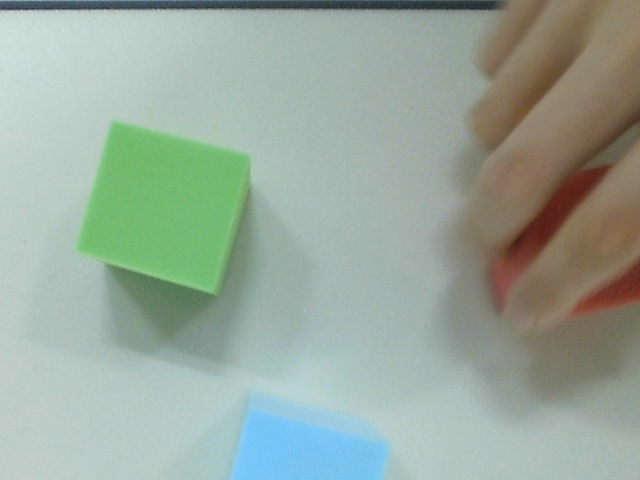greencube: (64, 109, 269, 302)
